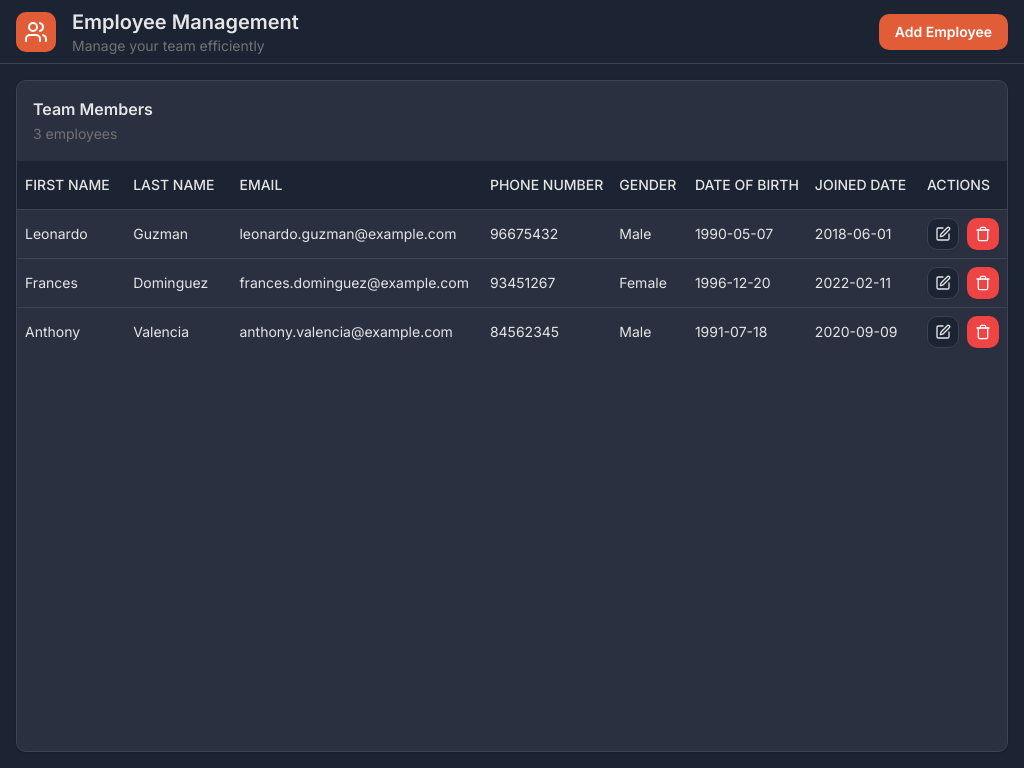
Delete employee spec › Cancels deletion of employee in confirmation dialog
# Click delete button of employee 15
Click the button with test id "delete-15".
click(983, 234)  # box [967,218,999,250]
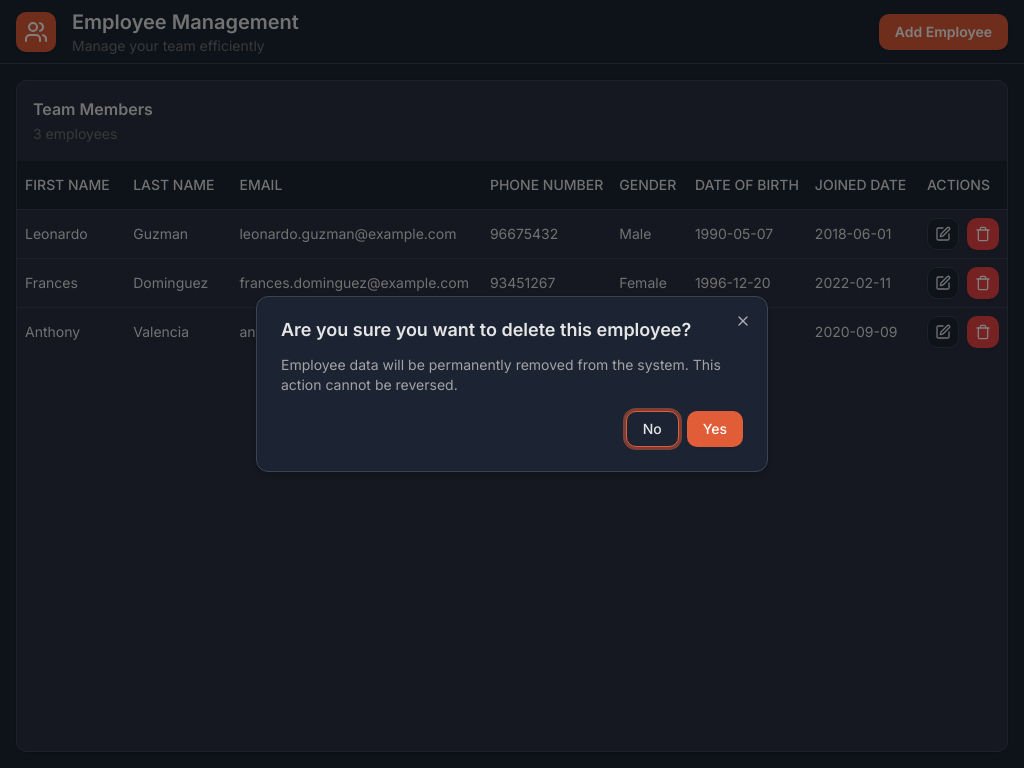
Check: the heading "Are you sure you want to delete this employee?" is shown, box [281,321,743,339]
# Cancel deletion
Click the button "No".
click(653, 429)  # box [626,411,679,447]
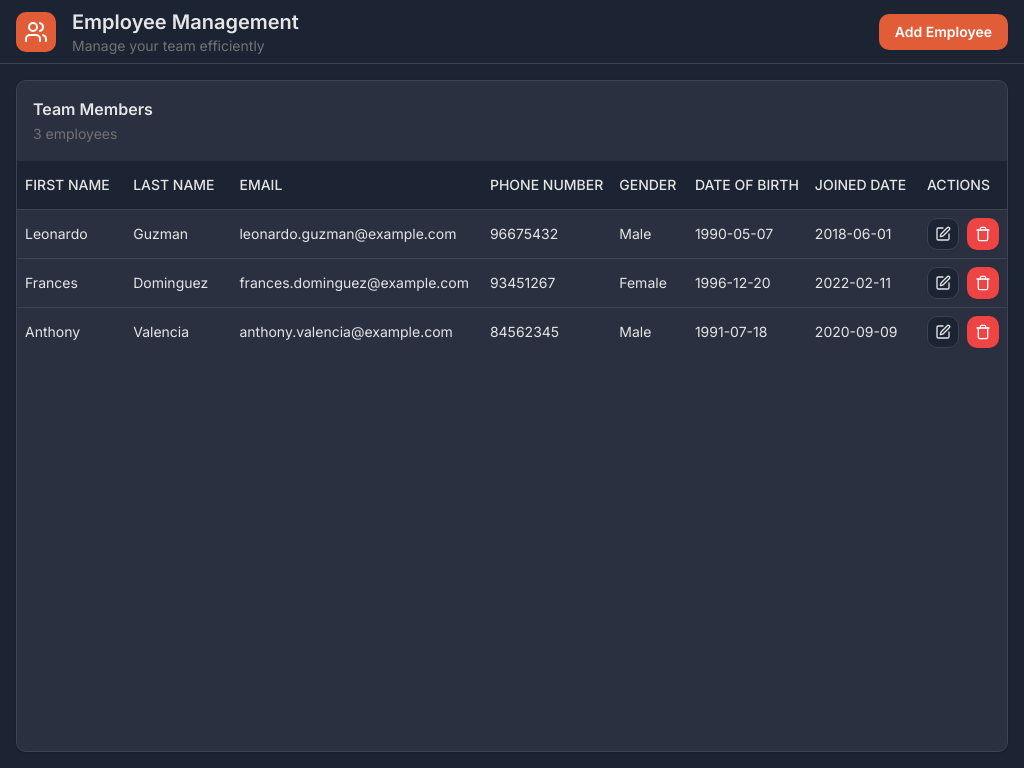
Check: the button with test id "delete-15" is shown, box [967,218,999,250]
Check: the heading "Are you sure you want to delete this employee?" is gone
